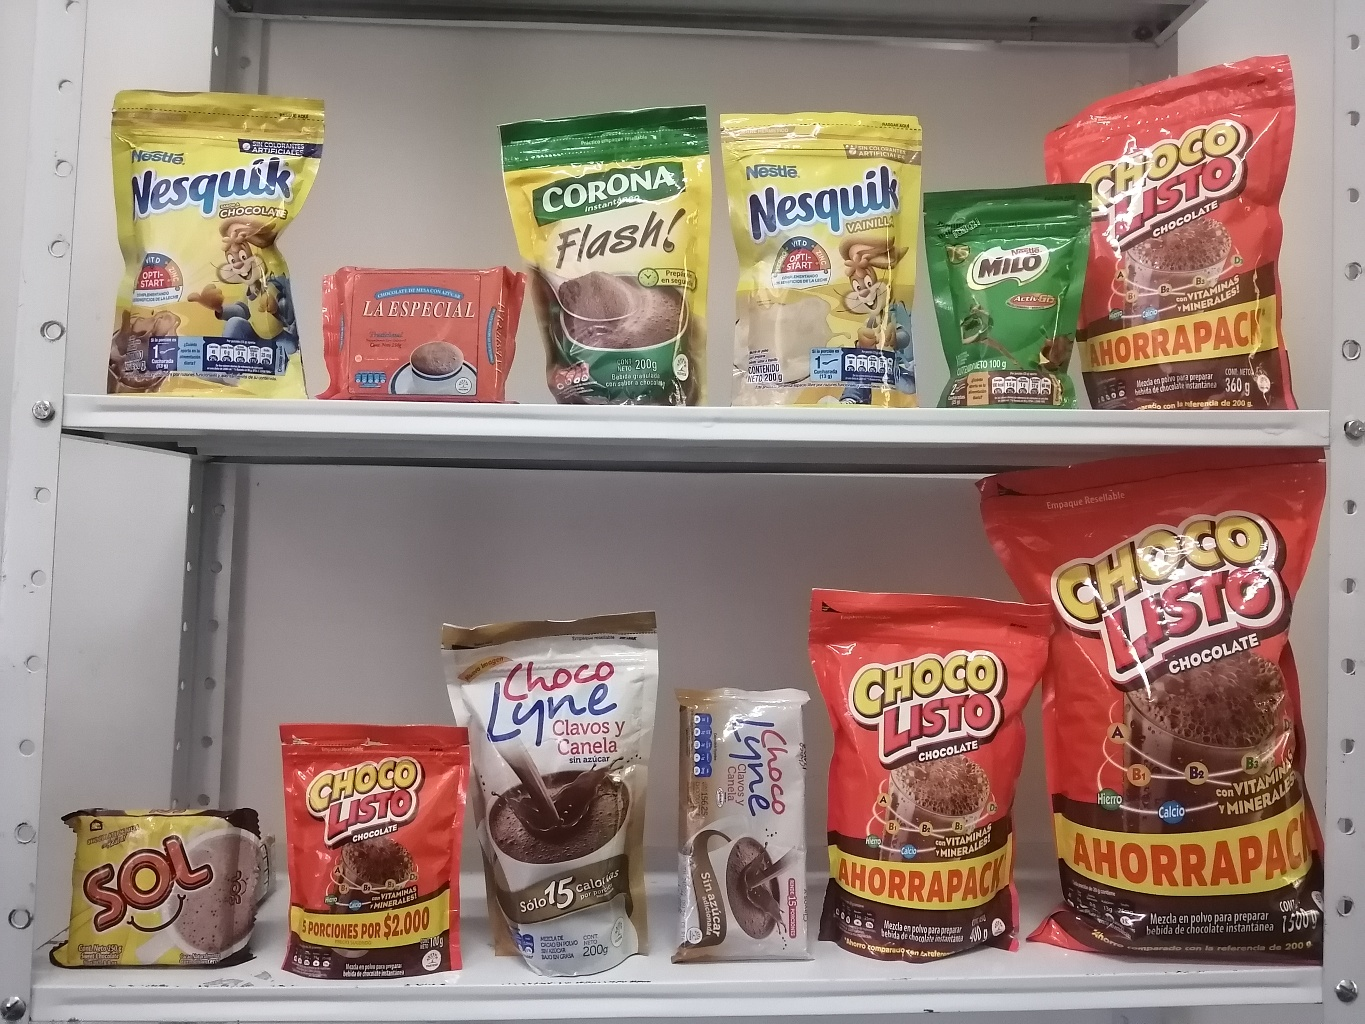COL0170103DYP1,500: (989, 453, 1343, 961)
COL0170103DYP10000: (280, 699, 479, 975)
COL0170103DYP36000: (1039, 51, 1318, 407)
COL0170103DYP40000: (809, 577, 1053, 969)
COL0170203DYP10000: (918, 170, 1103, 415)
COL0170303DYP20000: (111, 89, 323, 399)
COL0170306DYP20000: (717, 106, 941, 406)
